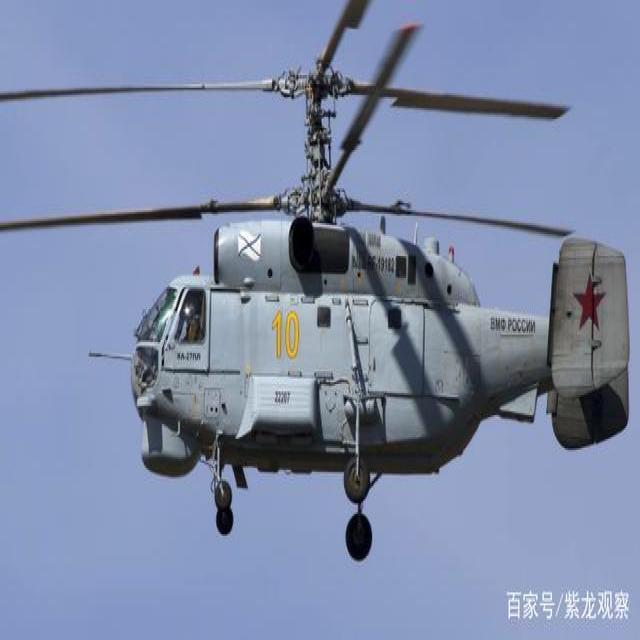MIL_HELO: (2, 6, 640, 574)
